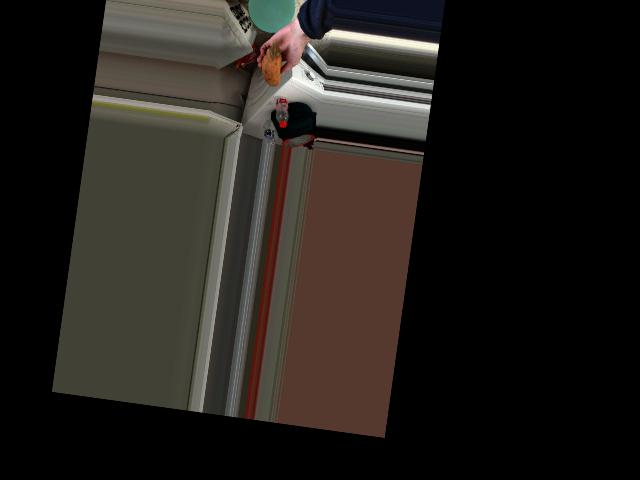sweet_potato: (259, 47, 283, 96)
